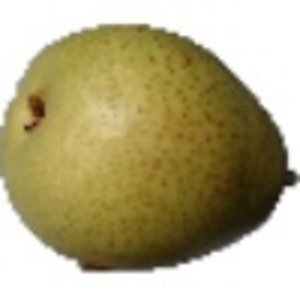pera: (1, 1, 300, 275)
